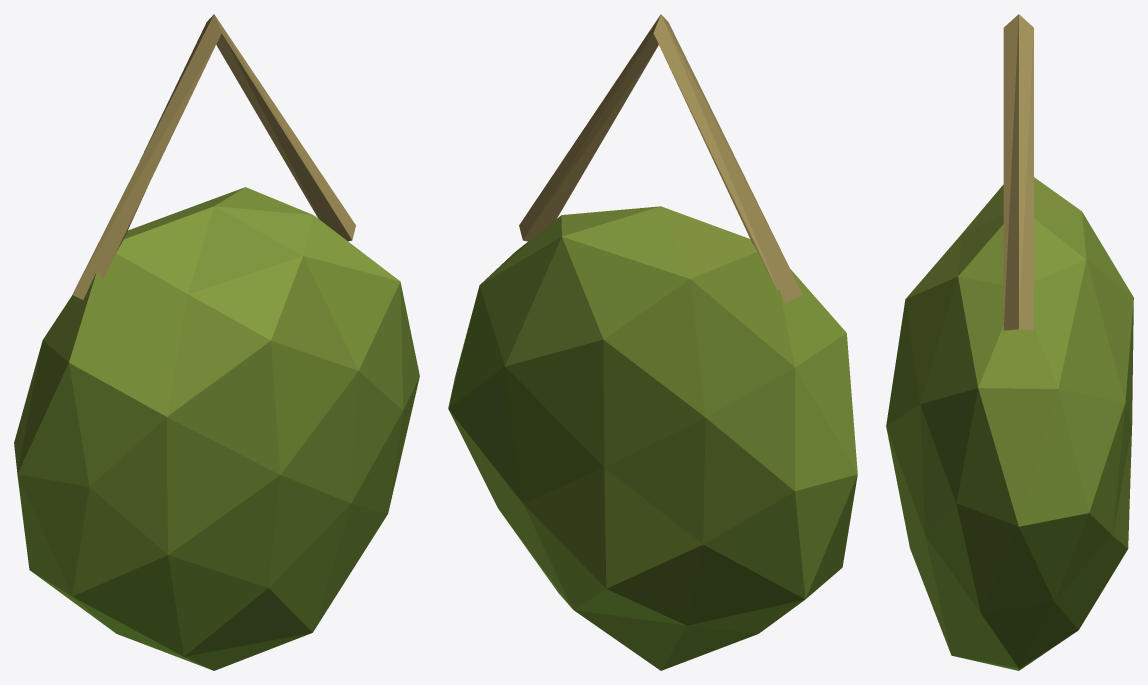
The model's file is bag_leaf.glb.
The picture shows the model from 3 angles, left to right: view 1: azimuth 30°, elevation 25°; view 2: azimuth 150°, elevation 25°; view 3: azimuth 270°, elevation 25°; orthographic projection.
Visible parts, largest first — view 1: bag_leaf_leaf, bag_leaf_solid; view 2: bag_leaf_leaf, bag_leaf_solid; view 3: bag_leaf_leaf, bag_leaf_solid.
Part boxes in pixels (box(x1,y1,x2,y2)): bag_leaf_leaf: box(14, 187, 419, 670); bag_leaf_solid: box(72, 14, 355, 299); bag_leaf_leaf: box(448, 206, 857, 670); bag_leaf_solid: box(519, 14, 802, 303); bag_leaf_leaf: box(886, 177, 1133, 670); bag_leaf_solid: box(1003, 14, 1033, 330).
Bounding box in the file's own units: 0.3698 × 0.5767 × 0.1971.
